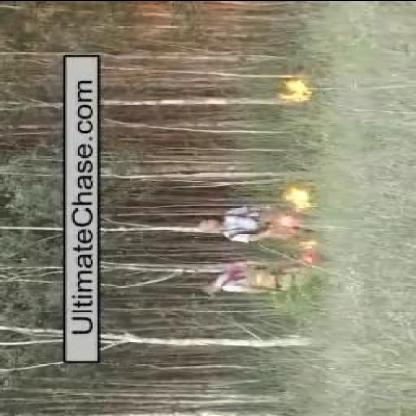foggia-v2-map80-epoch100 - v1 4323: (277, 80, 311, 100), (284, 188, 312, 209)
